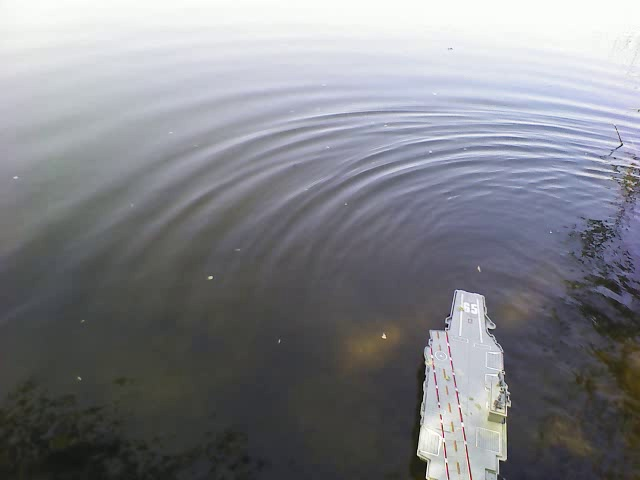aircraft_carrier: (412, 288, 515, 478)
